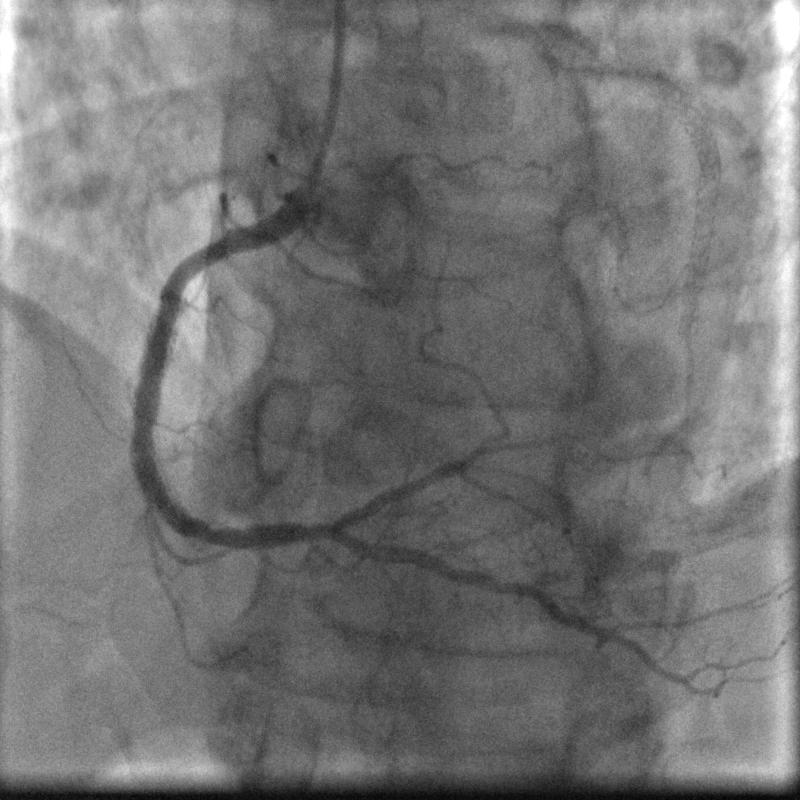Stenosis: (184, 227, 234, 289)
